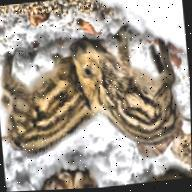boar: (67, 22, 187, 158), (0, 18, 103, 155)
